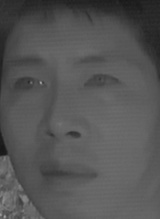eye: (80, 70, 121, 94), (10, 74, 48, 98)
mouth: (33, 154, 99, 193)
